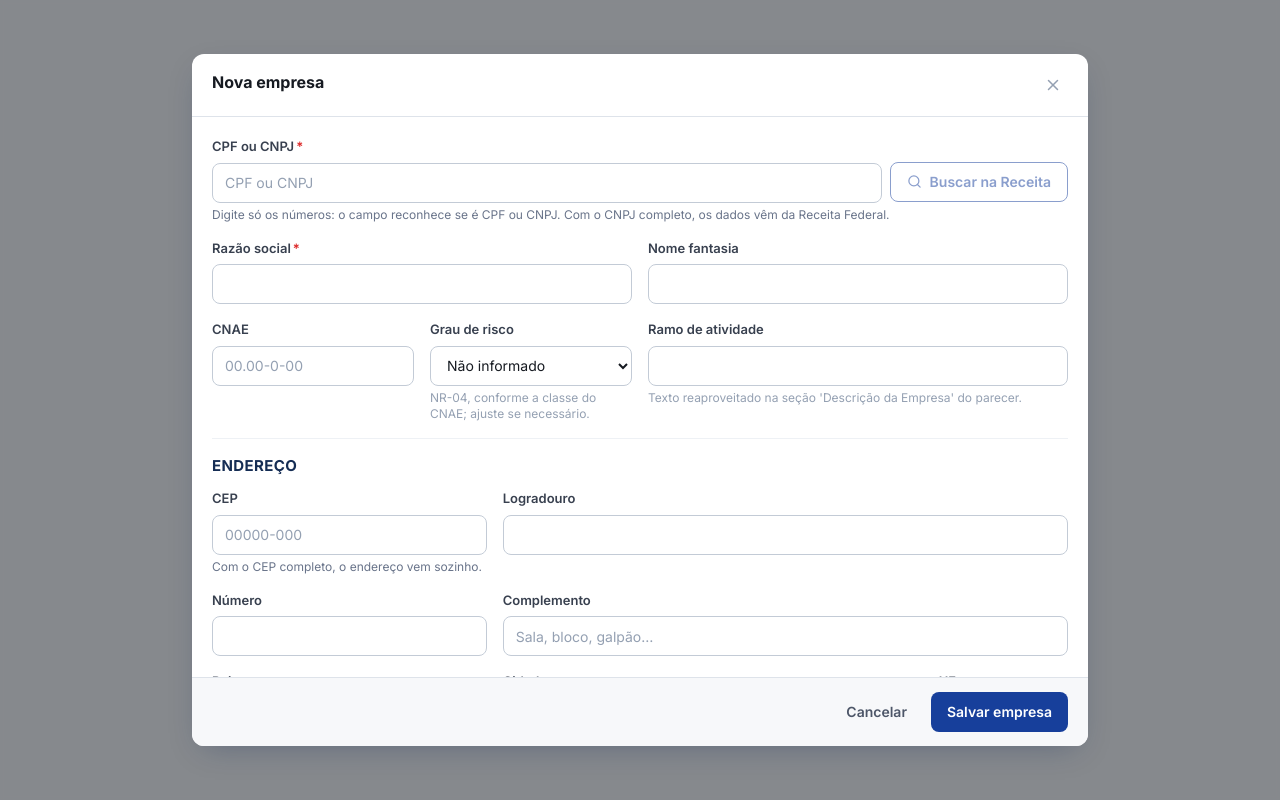
Test: ModalEmpresa › o CEP vem antes do logradouro e preenche o endereço
The image size is (1280, 800).
Type "09750000" into the field labelled "CEP". click: (349, 534)
box: [212,514,487,554]
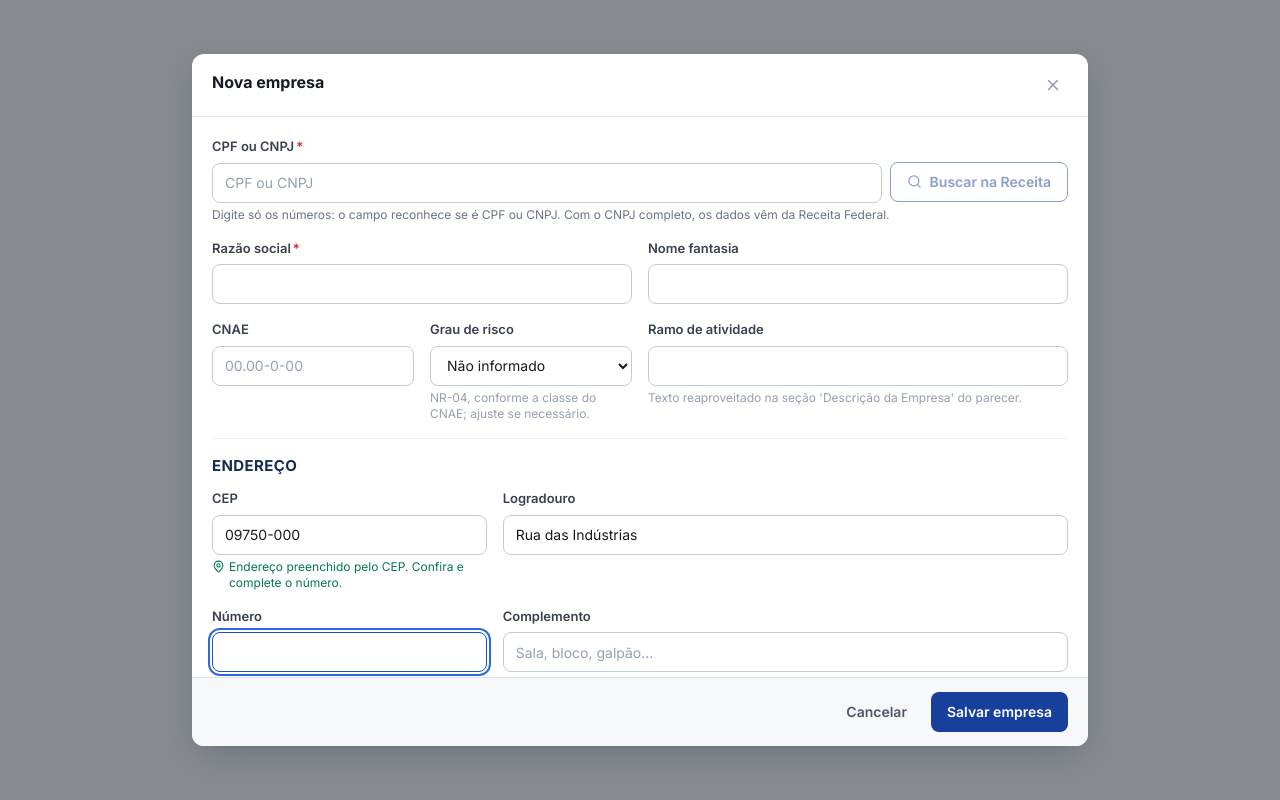
Expected: the text "Endereço preenchido pelo CEP. Confira e complete o número." is shown, [212,558,487,590]
